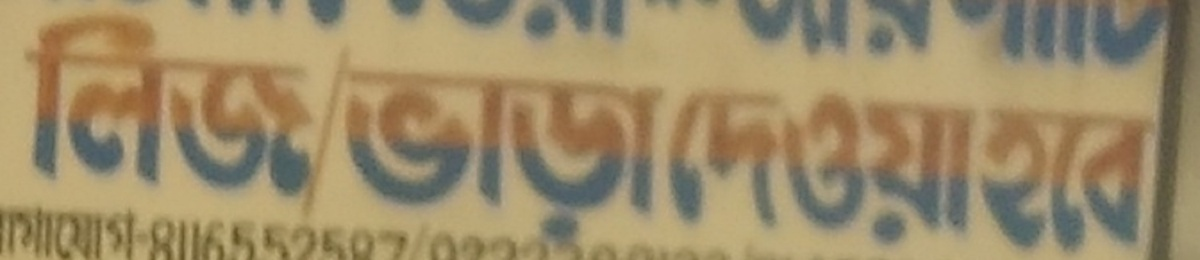text: (657, 9, 673, 252), (33, 9, 48, 252), (49, 9, 64, 252), (65, 9, 80, 252), (81, 9, 96, 252), (97, 9, 112, 252), (113, 9, 128, 252), (129, 9, 144, 252), (145, 9, 160, 252), (161, 9, 176, 252), (177, 9, 192, 252), (193, 9, 208, 252), (209, 9, 224, 252), (225, 9, 240, 252), (241, 9, 256, 252), (257, 9, 272, 252), (273, 9, 288, 252), (289, 9, 304, 252), (305, 9, 320, 252), (321, 9, 336, 252), (337, 9, 352, 252), (353, 9, 368, 252), (369, 9, 384, 252), (385, 9, 400, 252), (401, 9, 416, 252), (417, 9, 432, 252), (433, 9, 448, 252), (449, 9, 464, 252), (465, 9, 480, 252), (481, 9, 496, 252), (497, 9, 512, 252), (513, 9, 528, 252), (529, 9, 544, 252), (545, 9, 560, 252), (561, 9, 576, 252), (577, 9, 592, 252), (593, 9, 608, 252), (609, 9, 624, 252), (625, 9, 640, 252), (641, 9, 656, 252), (673, 77, 688, 245), (689, 77, 704, 245), (705, 77, 720, 245), (721, 77, 736, 245), (737, 77, 752, 245), (753, 77, 768, 245), (769, 77, 784, 245), (785, 77, 800, 245), (801, 77, 816, 245), (817, 77, 832, 245), (833, 77, 848, 245), (849, 77, 864, 245), (865, 77, 880, 245), (881, 77, 896, 245), (897, 77, 912, 245), (913, 77, 928, 245), (929, 77, 944, 245), (945, 77, 960, 245), (961, 77, 976, 245), (993, 104, 1008, 253), (1009, 104, 1024, 253), (1025, 104, 1040, 253), (1041, 104, 1056, 253), (1057, 104, 1072, 253), (1073, 104, 1088, 253), (1089, 104, 1104, 253), (1105, 104, 1120, 253), (1121, 104, 1136, 253), (1137, 104, 1152, 253), (25, 9, 32, 252), (985, 104, 992, 253), (737, 1, 752, 69), (753, 1, 768, 69), (769, 1, 784, 69), (785, 1, 800, 69), (801, 1, 816, 69), (817, 1, 832, 69), (833, 1, 848, 69), (849, 1, 864, 69), (865, 1, 880, 69), (881, 1, 896, 69), (897, 1, 912, 69), (913, 1, 928, 69), (929, 1, 944, 69), (945, 1, 960, 69), (961, 1, 976, 69), (977, 1, 992, 69), (993, 1, 1008, 69), (1009, 1, 1024, 69), (1025, 1, 1040, 69), (1041, 1, 1056, 69), (1057, 1, 1072, 69), (1073, 1, 1088, 69), (1089, 1, 1104, 69), (1105, 1, 1120, 69), (1121, 1, 1136, 69), (1137, 1, 1152, 69), (17, 200, 32, 259), (33, 200, 48, 259), (49, 200, 64, 259), (65, 200, 80, 259), (81, 200, 96, 259), (97, 200, 112, 259), (113, 200, 128, 259), (129, 200, 144, 259), (145, 200, 160, 259), (161, 200, 176, 259), (177, 200, 192, 259), (193, 200, 208, 259), (209, 200, 224, 259), (225, 200, 240, 259), (241, 200, 256, 259), (257, 200, 272, 259), (273, 200, 288, 259), (289, 200, 304, 259), (305, 200, 320, 259), (321, 200, 336, 259), (337, 200, 352, 259), (353, 200, 368, 259), (369, 200, 384, 259), (385, 200, 400, 259), (401, 200, 416, 259), (417, 200, 432, 259), (433, 200, 448, 259), (449, 200, 464, 259), (465, 200, 480, 259), (481, 200, 496, 259), (497, 200, 512, 259), (513, 200, 528, 259), (529, 200, 544, 259), (545, 200, 560, 259), (561, 200, 576, 259), (577, 200, 592, 259), (593, 200, 608, 259), (609, 200, 624, 259), (2, 200, 16, 259), (1153, 1, 1165, 69), (193, 1, 208, 49), (209, 1, 224, 49), (225, 1, 240, 49), (241, 1, 256, 49), (257, 1, 272, 49), (273, 1, 288, 49), (289, 1, 304, 49), (305, 1, 320, 49), (321, 1, 336, 49), (337, 1, 352, 49), (353, 1, 368, 49), (369, 1, 384, 49), (385, 1, 400, 49), (401, 1, 416, 49), (417, 1, 432, 49), (433, 1, 448, 49), (449, 1, 464, 49), (465, 1, 480, 49), (481, 1, 496, 49), (497, 1, 512, 49), (513, 1, 528, 49), (529, 1, 544, 49), (545, 1, 560, 49), (561, 1, 576, 49), (577, 1, 592, 49), (593, 1, 608, 49), (609, 1, 624, 49), (625, 1, 640, 49), (641, 1, 656, 49), (657, 1, 672, 49), (673, 1, 688, 49), (689, 1, 701, 49), (625, 200, 632, 259), (977, 77, 979, 245), (1153, 104, 1155, 253), (735, 1, 736, 69)
